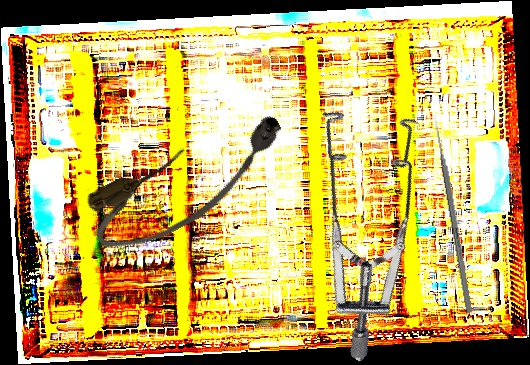Cannula: (78, 102, 301, 264)
Pusher: (431, 113, 474, 314)
Speculum: (217, 74, 495, 363)
